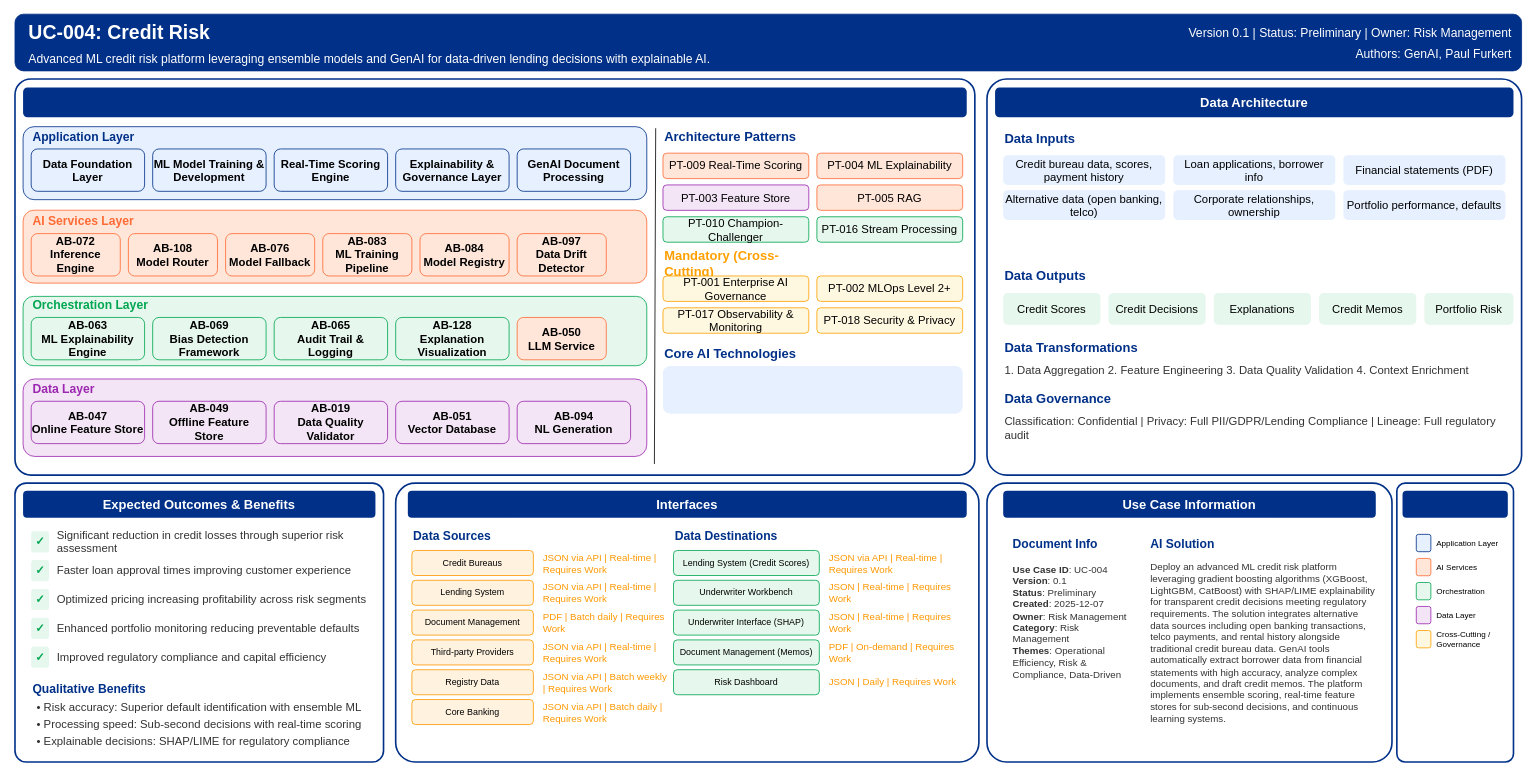
The diagram is 1537 pixels wide and 777 high, and some of its shapes have lost their labels. Each missing label, with the box of its shape:
Legend: (1402, 490, 1507, 517)
Solution: (23, 87, 966, 117)
XGBoost/LightGBM/CatBoost | TabNet/LSTM/GNN | GPT-4/Claude | SHAP/LIME: (663, 366, 962, 413)
